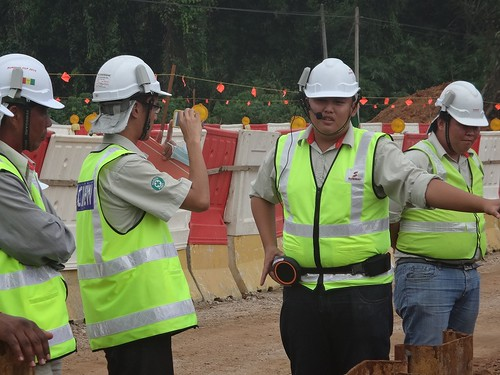Helmet: (85, 52, 177, 159), (1, 51, 70, 163), (297, 57, 370, 142), (429, 77, 492, 160)
Reflective vest: (77, 143, 202, 353), (272, 126, 398, 293), (1, 151, 79, 366), (400, 137, 490, 268)
